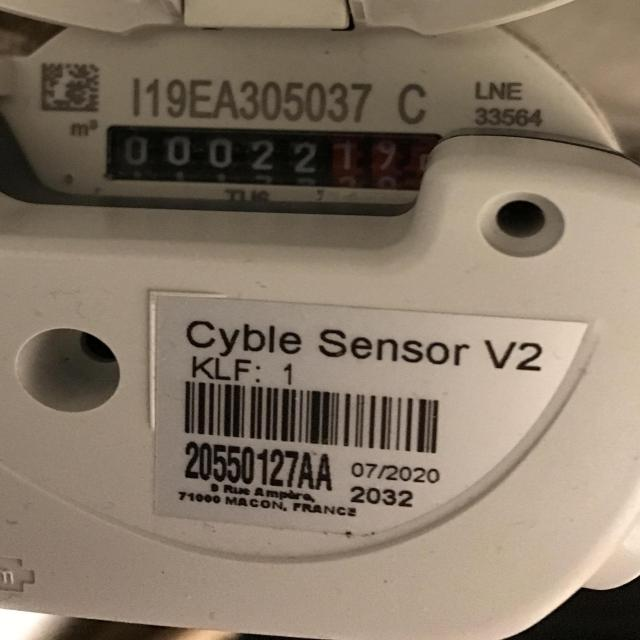gaz_meter: (0, 22, 629, 567)
indication: (109, 125, 423, 188)
